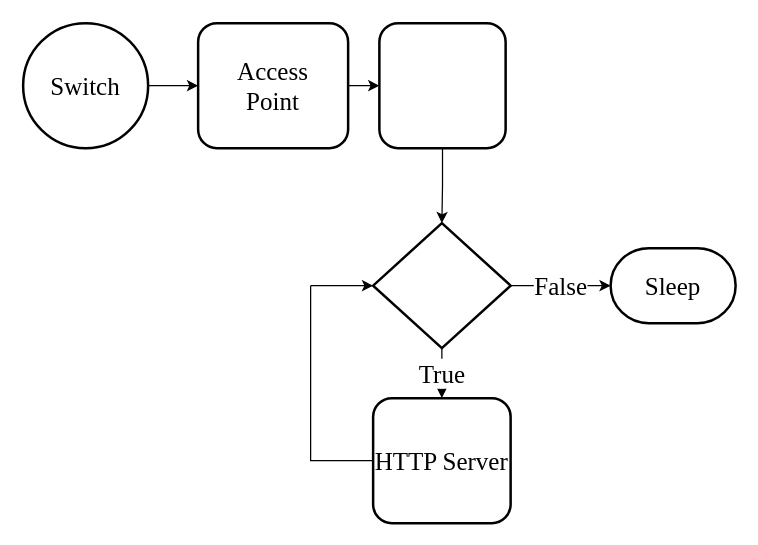
Image size: 758x545. Some labels were removed from this diagram. Each missing label, with the centre of its shape:
"Connect?" belongs at [441,285].
"Set Timer" belongs at [442,85].
